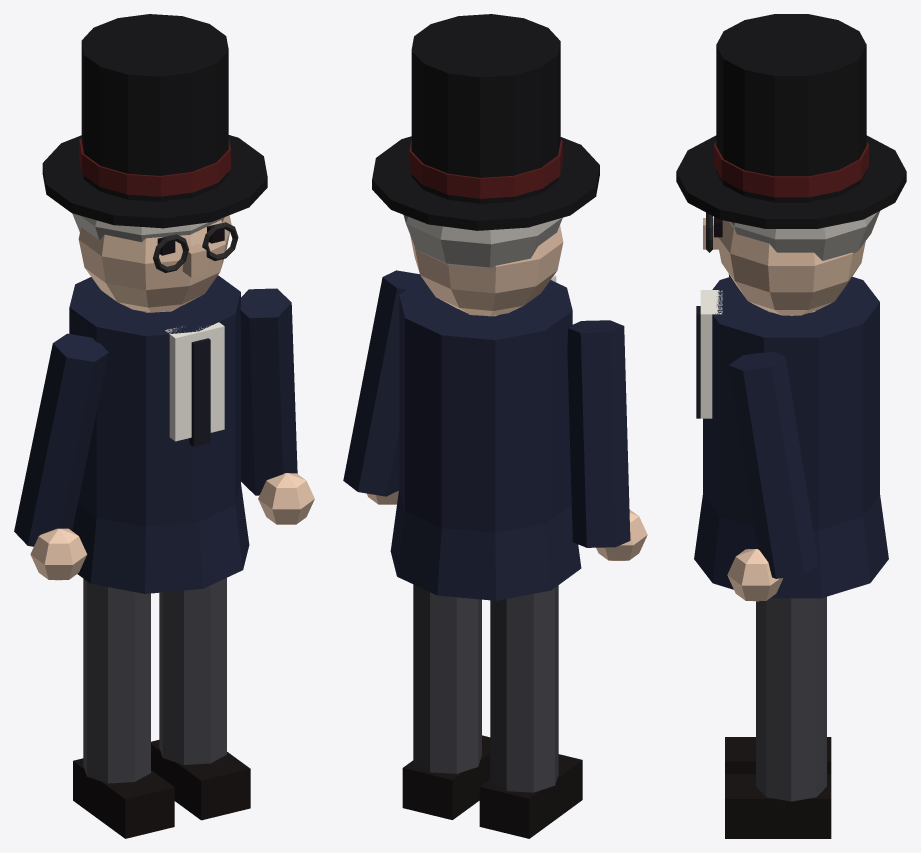
The model's file is postac_wilson.glb.
3 views of the same model, side by side, from view 1: azimuth 30°, elevation 25°; view 2: azimuth 150°, elevation 25°; view 3: azimuth 270°, elevation 25° (orthographic).
Parts seen in each view (by area): view 1: cialo, noga_l, noga_p, reka_l, reka_p; view 2: cialo, noga_l, noga_p, reka_l, reka_p; view 3: cialo, noga_p, reka_p, noga_l.
Boxes of the visible parts, left/top/right/bottom form: cialo: left=42, top=14, right=267, bottom=593; noga_l: left=73, top=578, right=174, bottom=838; noga_p: left=151, top=578, right=250, bottom=820; reka_l: left=14, top=333, right=108, bottom=580; reka_p: left=240, top=288, right=314, bottom=524; cialo: left=372, top=14, right=599, bottom=600; noga_l: left=479, top=585, right=582, bottom=838; noga_p: left=402, top=584, right=490, bottom=819; reka_l: left=567, top=320, right=647, bottom=560; reka_p: left=343, top=270, right=421, bottom=504; cialo: left=676, top=14, right=906, bottom=598; noga_p: left=725, top=596, right=831, bottom=838; reka_p: left=727, top=352, right=818, bottom=601; noga_l: left=725, top=737, right=831, bottom=774.
Bounding box in the file's own units: 0.7126 × 1.9 × 0.52.
